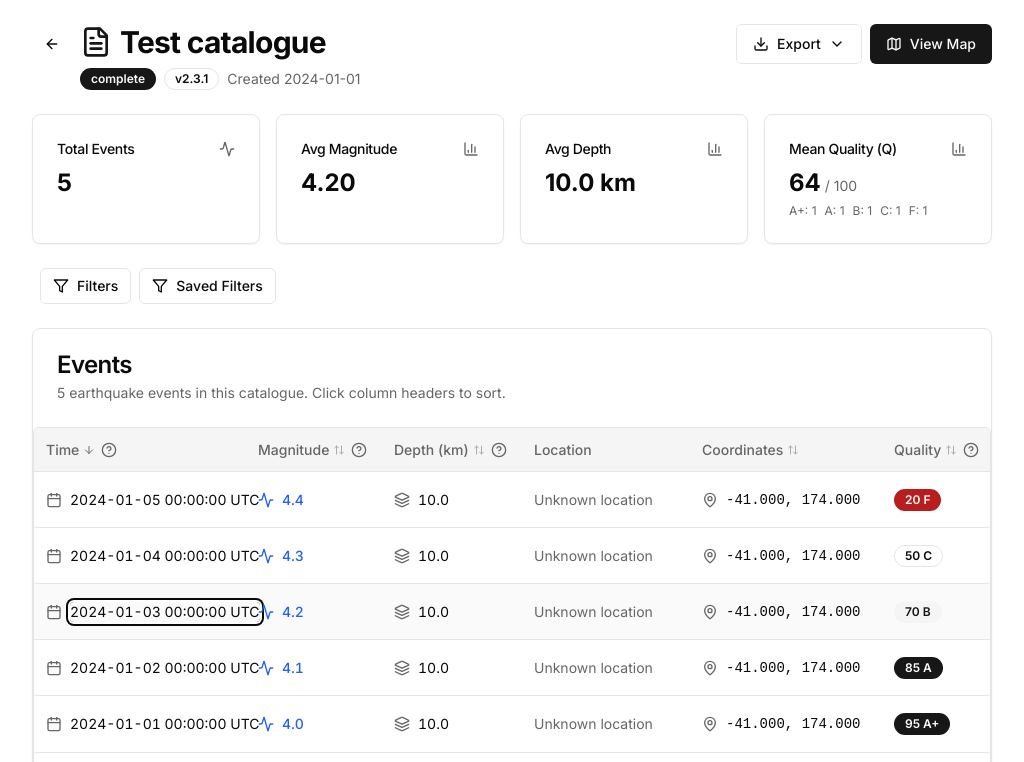
UI audit 2026-10-05 (finding 5): opening an event › the row's open button shows the event in a dialog with a link to the catalogue map
Click the button "2024-01-03 00:00:00 UTC" at (165, 612), box [70,602,260,622]
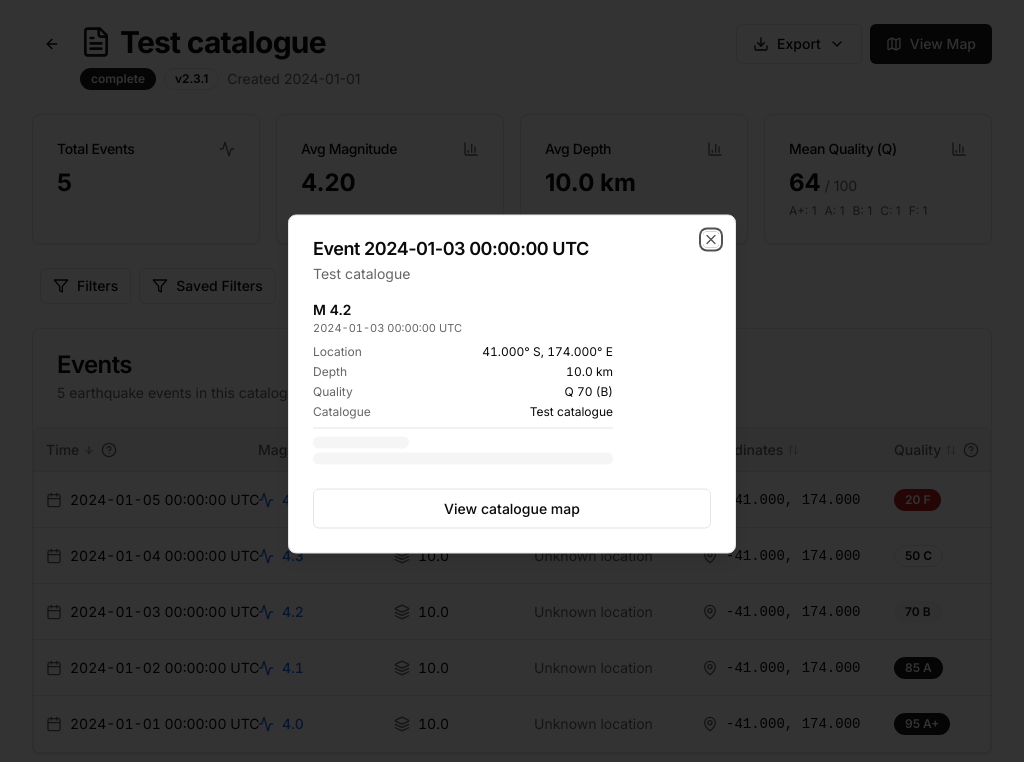
Expected: the dialog shows "Event 2024-01-03 00:00:00 UTC"
Expected: the dialog shows "Test catalogue", [313,264,410,282]
Expected: the dialog shows "M 4.2", [313,300,352,318]
Press Escape in the dialog, box [288,214,736,554]
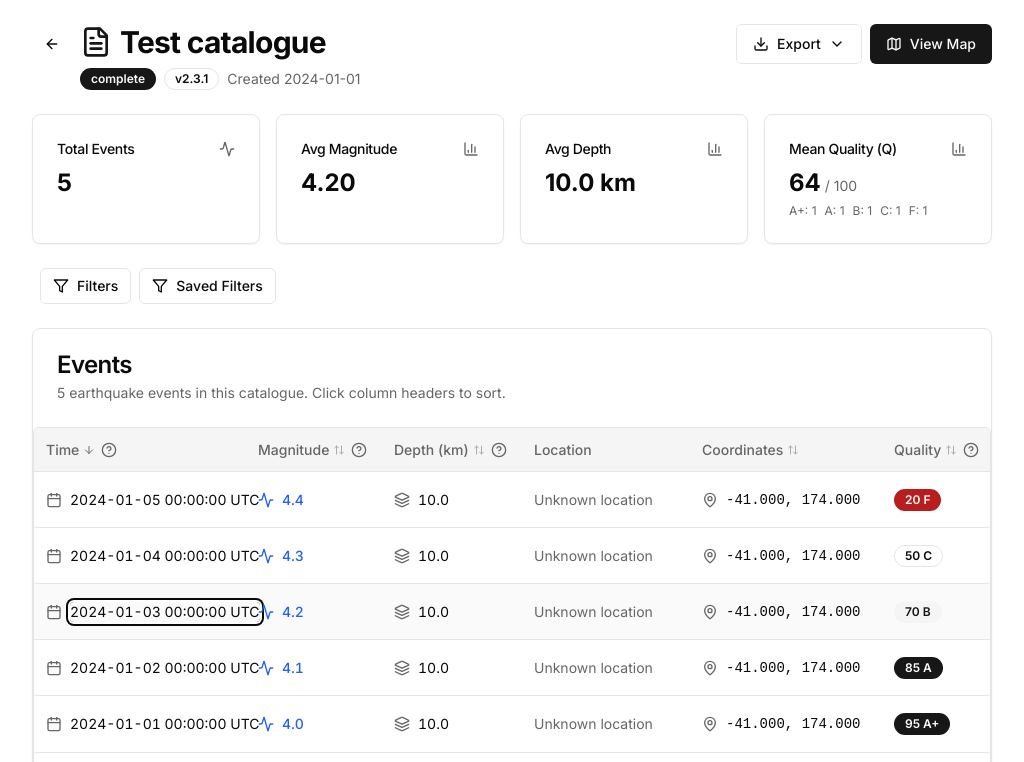
Expected: the dialog is gone
